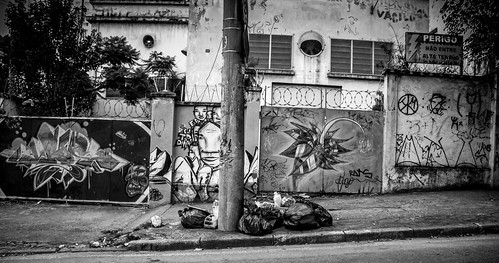building: (89, 1, 428, 100)
graffiti: (1, 115, 168, 201), (393, 73, 495, 189), (257, 106, 382, 194), (150, 104, 258, 190)
sidewalk: (1, 192, 493, 248)
sign: (402, 29, 465, 69)
trash: (163, 182, 331, 236)
tree: (1, 1, 116, 116)
